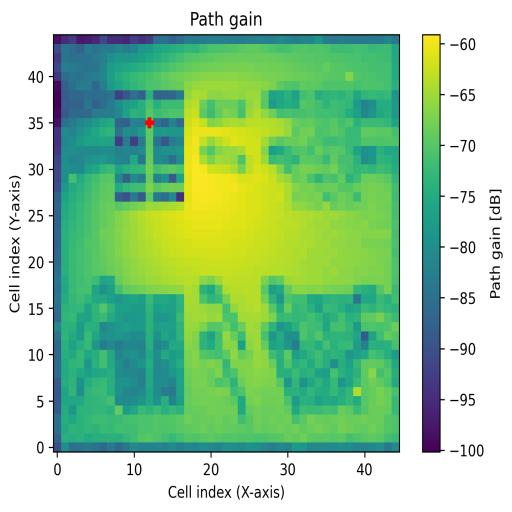Concrete: (284, 92, 368, 212)
Glass: (114, 90, 184, 203)
Metal: (285, 297, 368, 414)
Wood: (114, 294, 184, 416)
